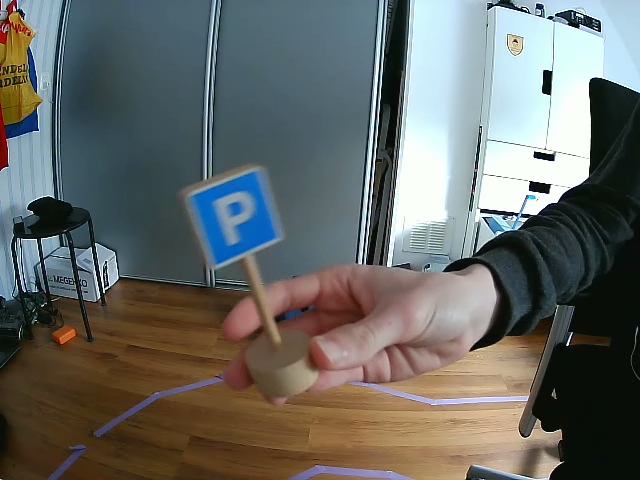parkeerbord: (180, 165, 284, 274)
